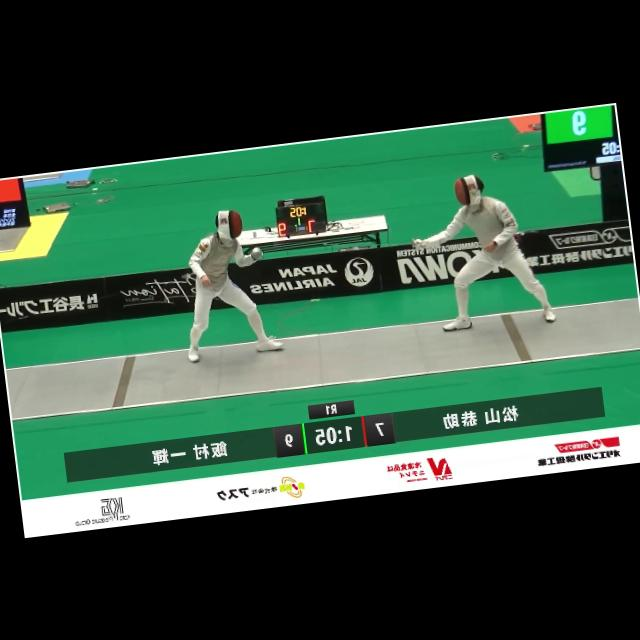blade: (321, 227, 420, 264)
